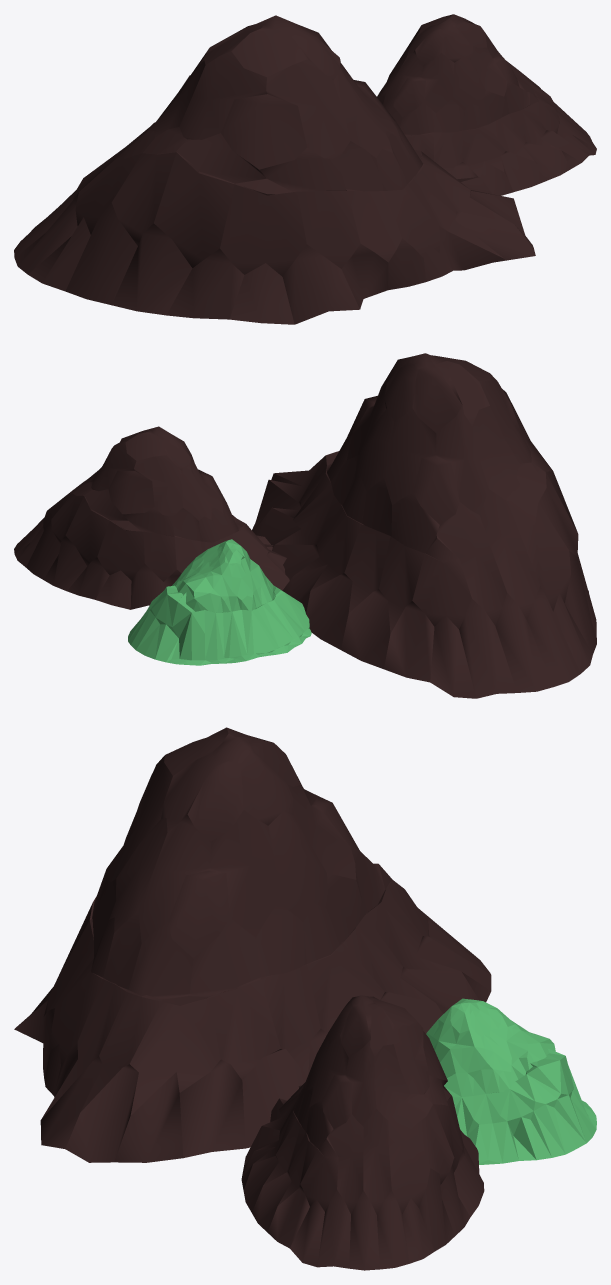
Rendered from ThreeMountain.fbx.
3 renders of one model, top to bottom at view 1: azimuth 30°, elevation 25°; view 2: azimuth 150°, elevation 25°; view 3: azimuth 270°, elevation 25°, orthographic. The views are drawn at different scales.
Visible parts, largest first — view 1: mount2, mount1; view 2: mount2, mount1, mount; view 3: mount2, mount1, mount.
Boxes of the visible parts, left/top/right/bottom form: mount2: left=14, top=15, right=535, bottom=324; mount1: left=377, top=14, right=596, bottom=195; mount2: left=252, top=353, right=596, bottom=698; mount1: left=14, top=426, right=289, bottom=609; mount: left=128, top=539, right=311, bottom=665; mount2: left=14, top=727, right=491, bottom=1162; mount1: left=241, top=995, right=484, bottom=1270; mount: left=426, top=998, right=596, bottom=1164.
Bounding box in the file's own units: 382 × 161 × 268.
